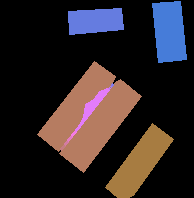parkingspot: (59, 79, 141, 172), (37, 61, 115, 151), (105, 123, 173, 198), (152, 1, 186, 62), (68, 8, 123, 34)
